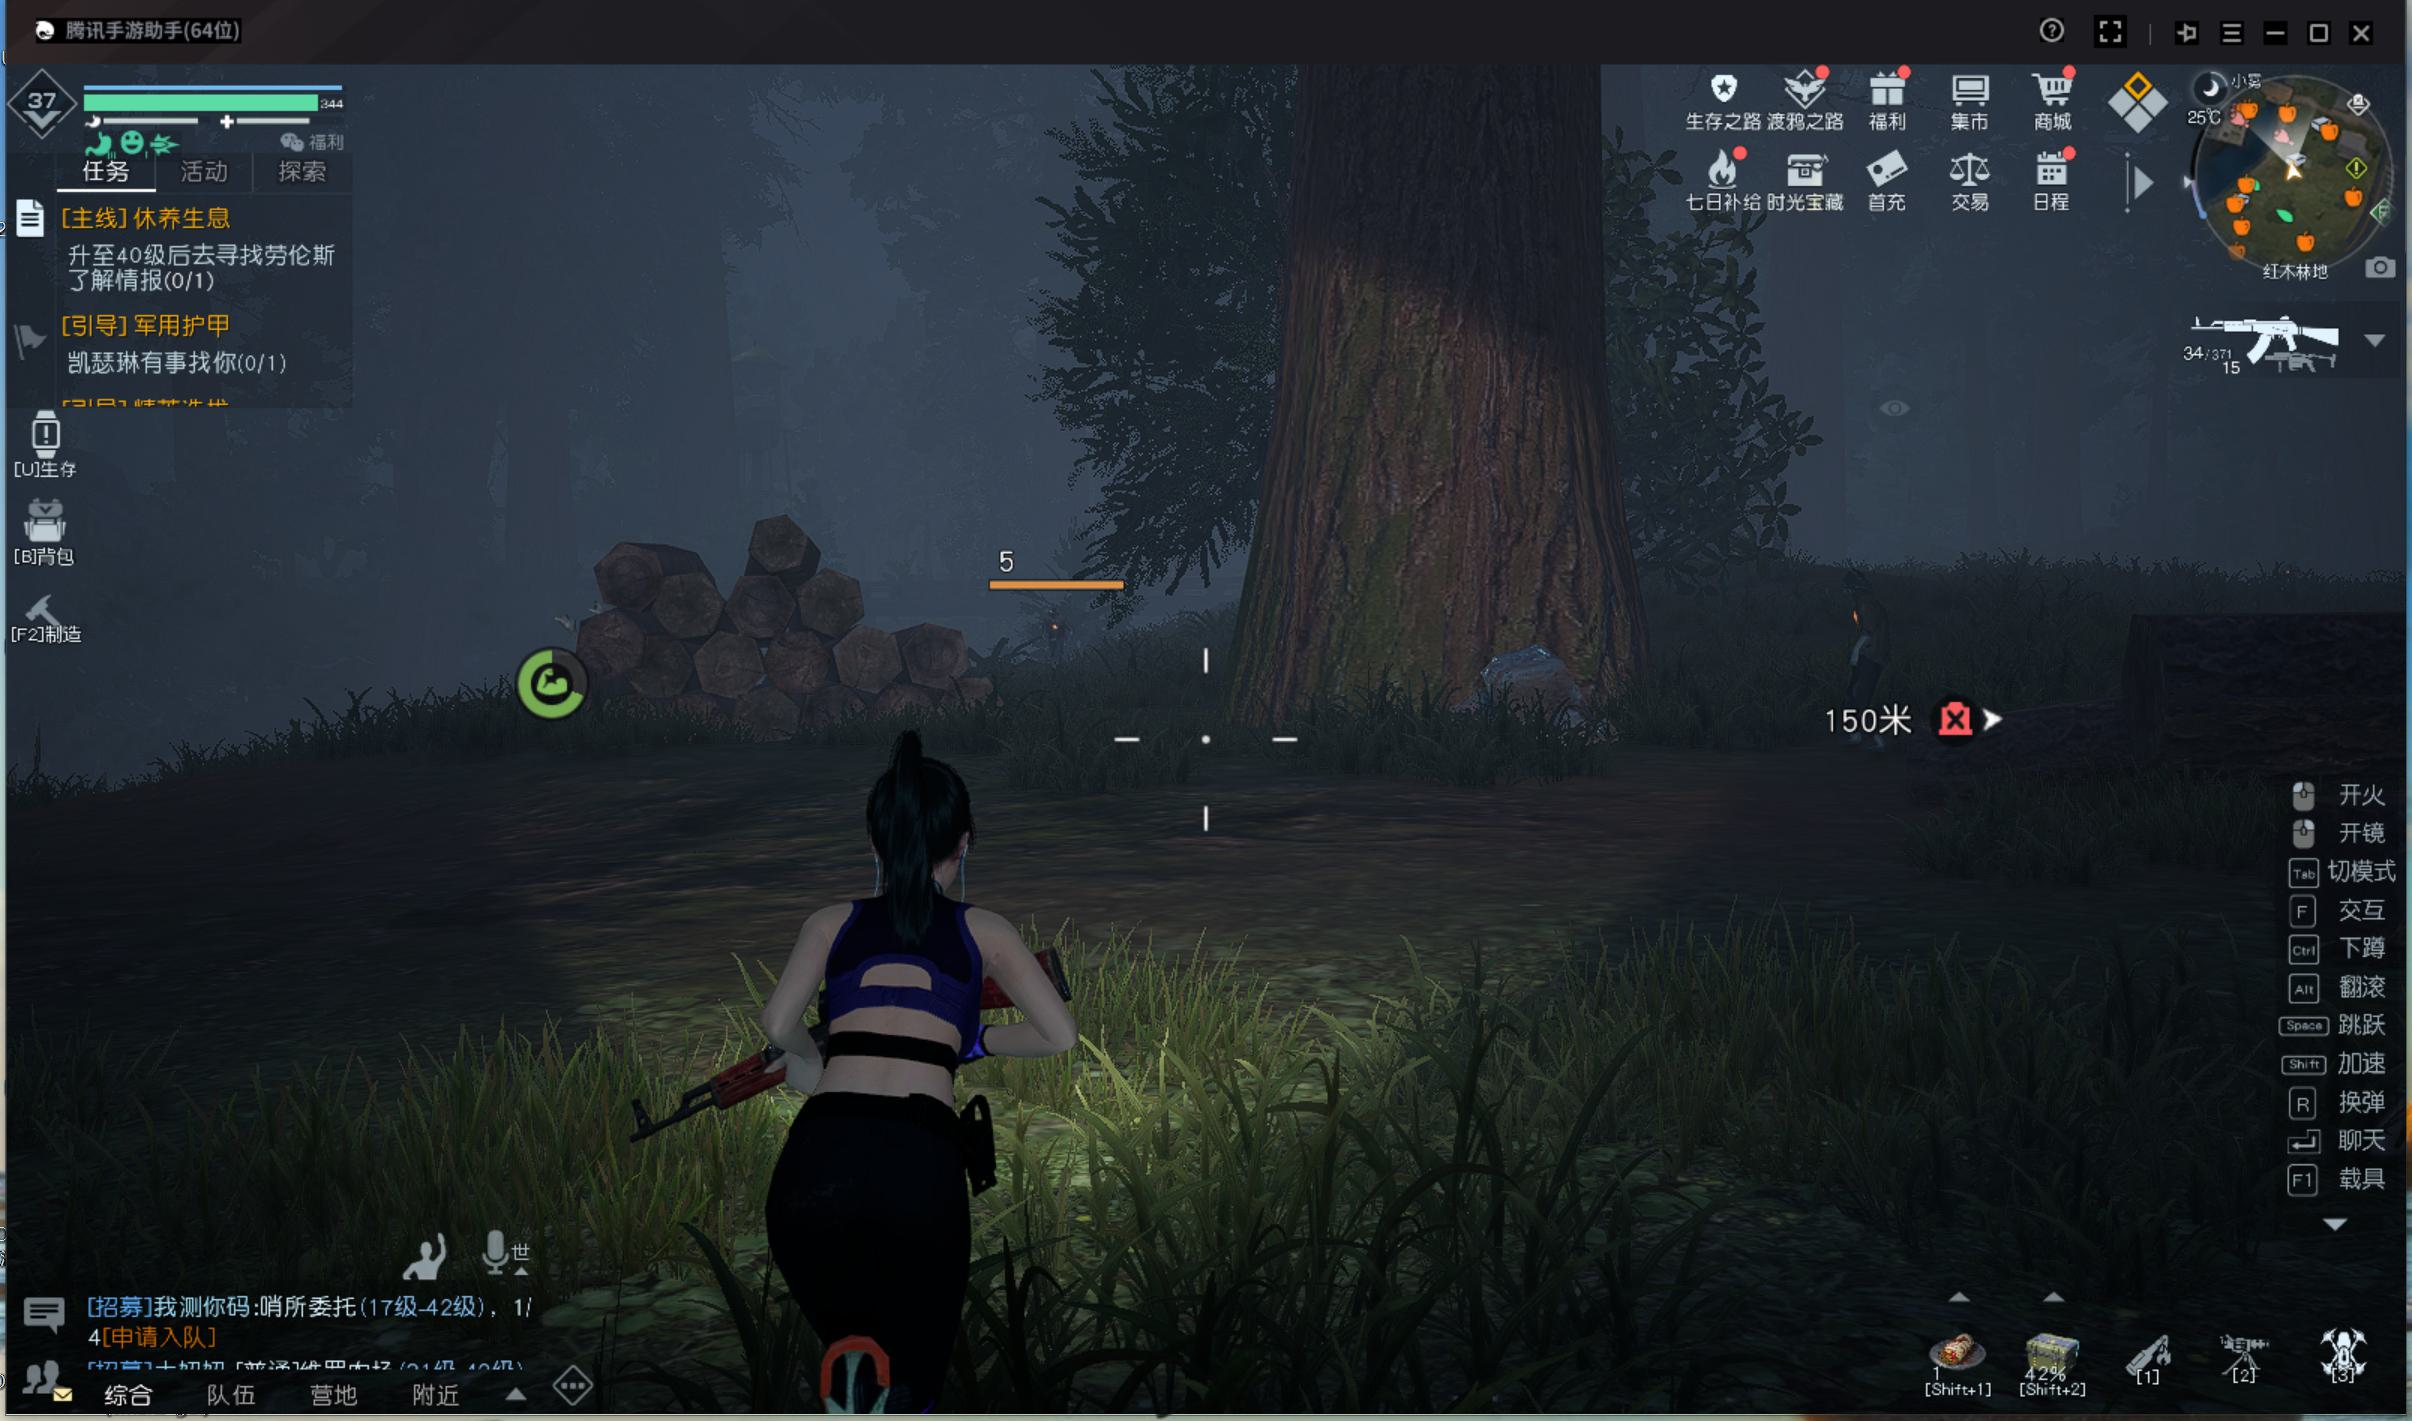stone: (1448, 636, 1600, 766)
tree: (1221, 74, 1654, 719)
